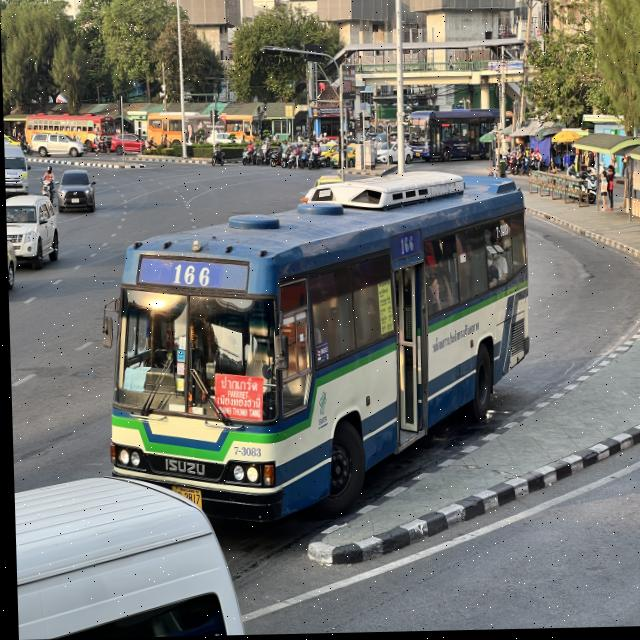BMTA-bus: (105, 175, 529, 528)
Bus Line Number: (165, 256, 215, 295)
Bus Side Number: (229, 440, 261, 462)
Destination Sign: (207, 370, 261, 423)
